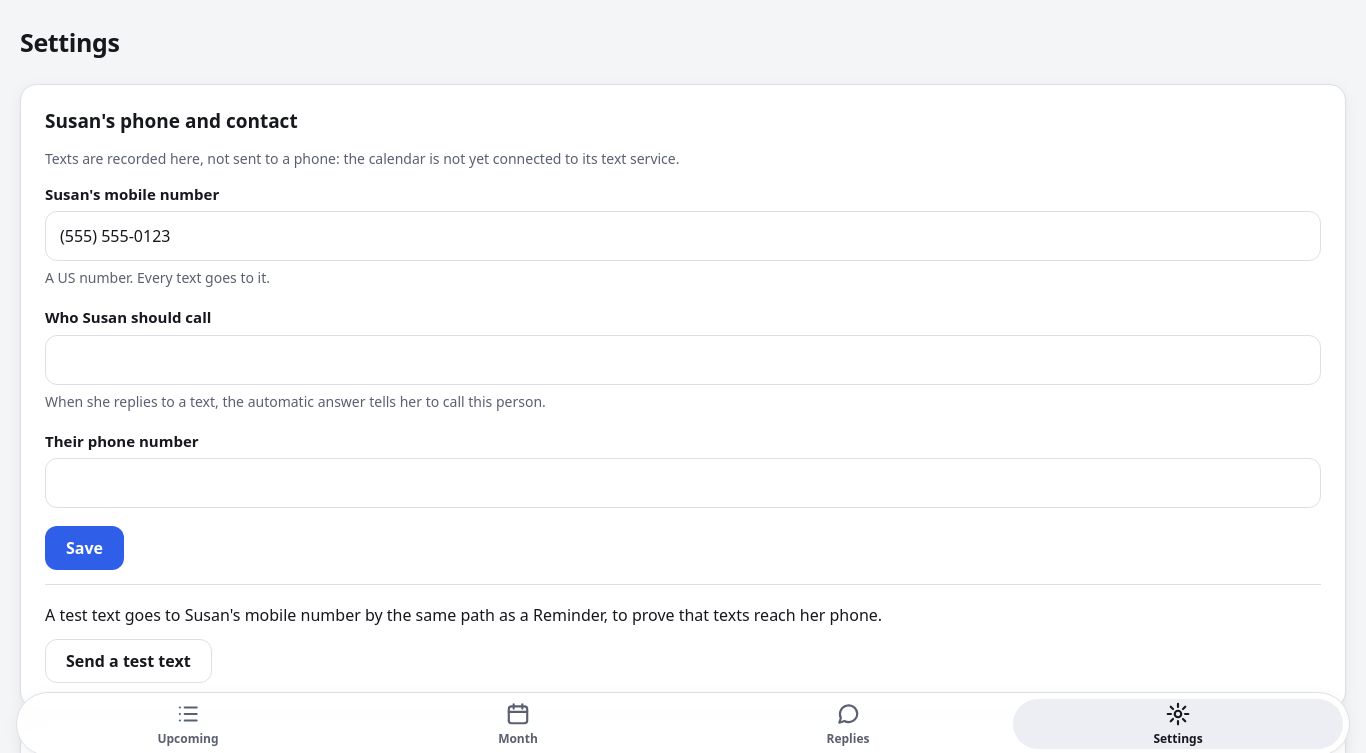
Test case: the Susan's phone and contact section of Settings › never puts back Susan's number when a page left open saves only the contact
Type "Linda" into the field labelled "Who Susan should call" at (683, 360), box [45,335,1321,385]
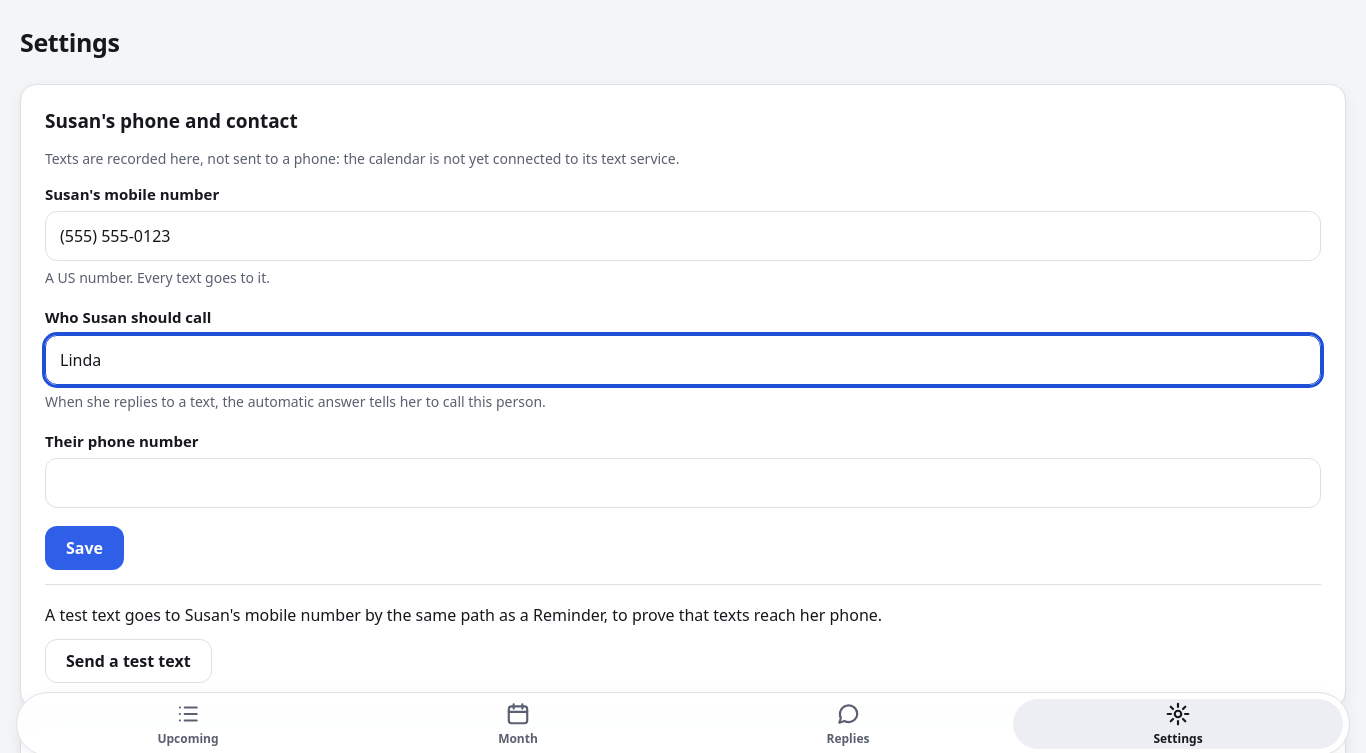
Click the button "Save" at (84, 548), box [45,526,124,570]
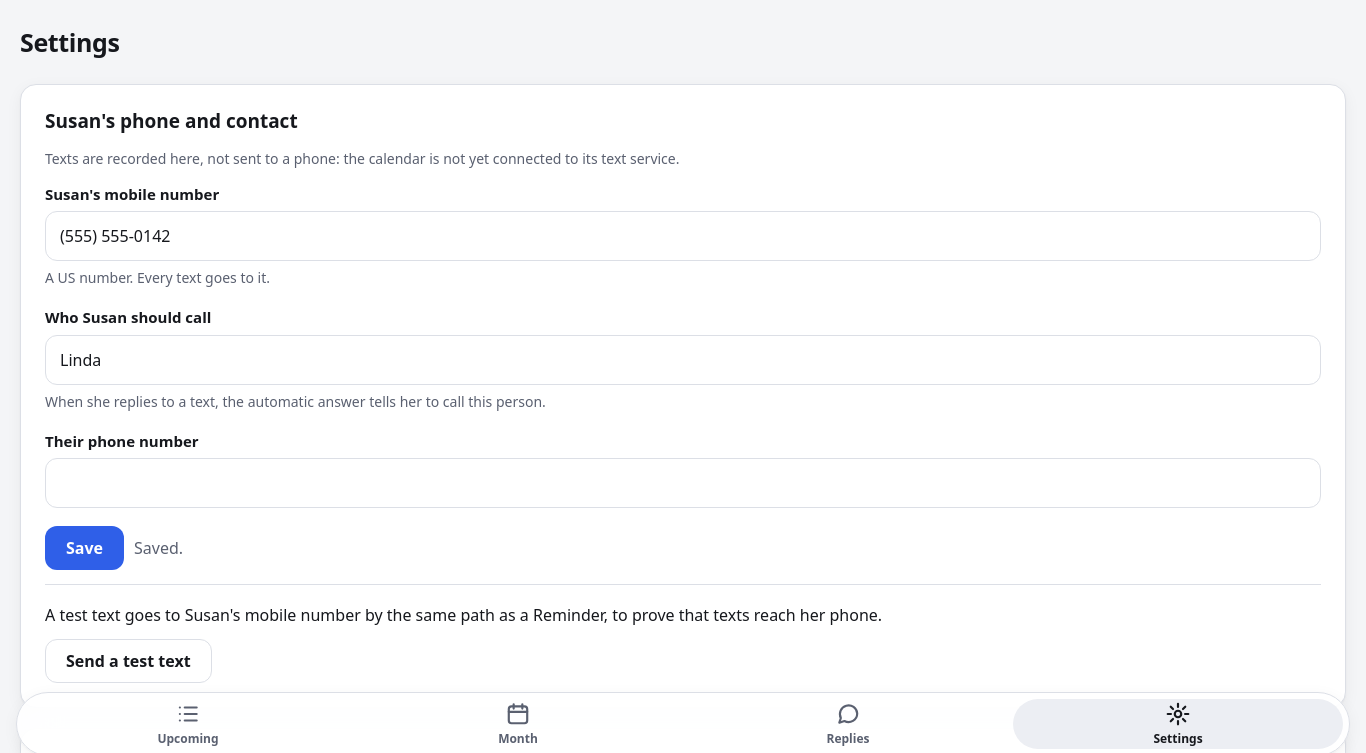
Now the message reads "Saved.", box [134,537,183,559]
